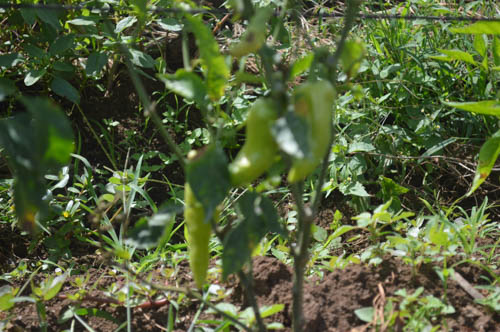ChiliPepper: (289, 82, 342, 187), (175, 181, 217, 293), (226, 97, 275, 192)
